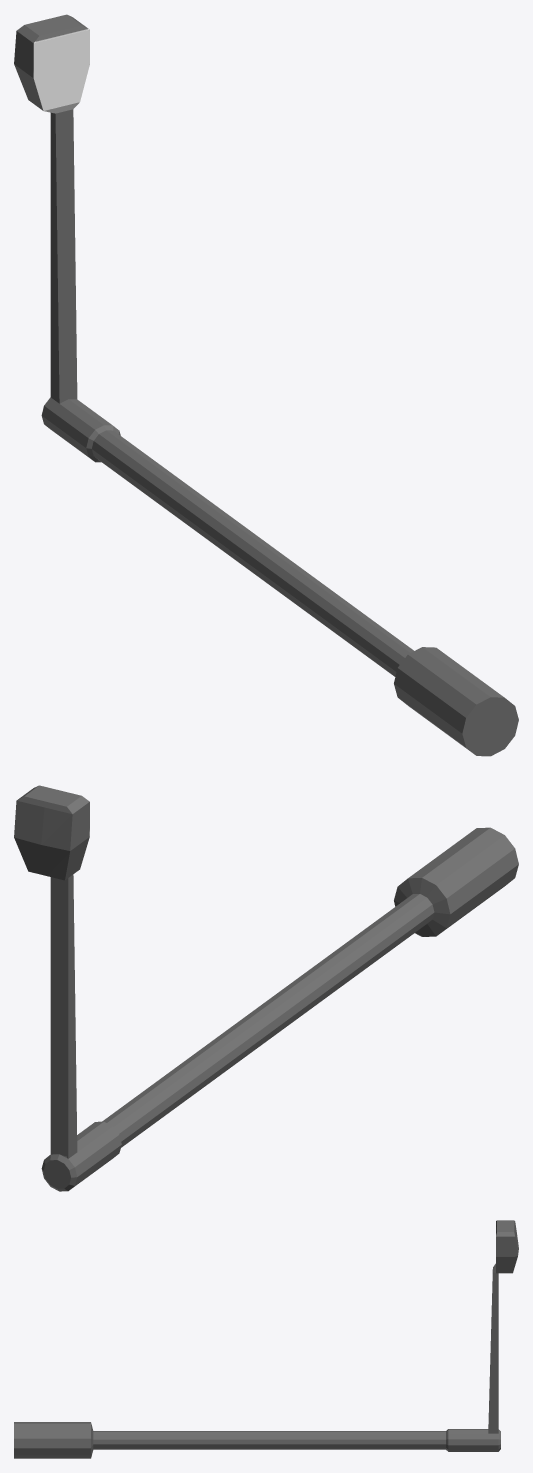
File: sign-light-pole.obj
The picture shows the model from 3 angles, top to bottom: view 1: azimuth 30°, elevation 25°; view 2: azimuth 150°, elevation 25°; view 3: azimuth 270°, elevation 25°; orthographic projection. The views are drawn at different scales.
Parts seen in each view (by area): view 1: sign-light-pole_Plane.198; view 2: sign-light-pole_Plane.198; view 3: sign-light-pole_Plane.198.
Boxes of the visible parts, bbox=[...] form: sign-light-pole_Plane.198: bbox=[14, 14, 518, 756]; sign-light-pole_Plane.198: bbox=[14, 785, 518, 1191]; sign-light-pole_Plane.198: bbox=[14, 1220, 518, 1458].
Size of the model in its own units: 0.728 by 5.05 by 10.01.
